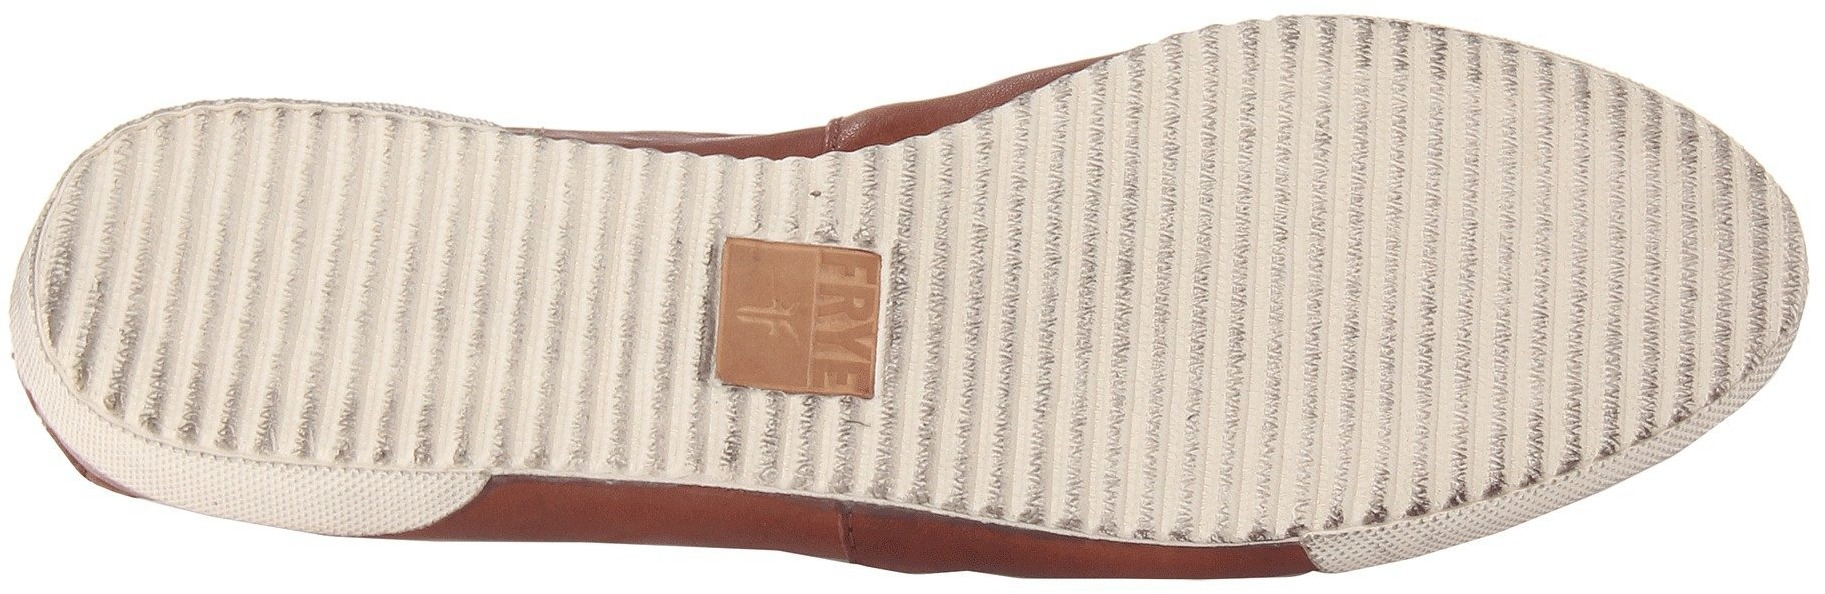text: (795, 249, 885, 362)
